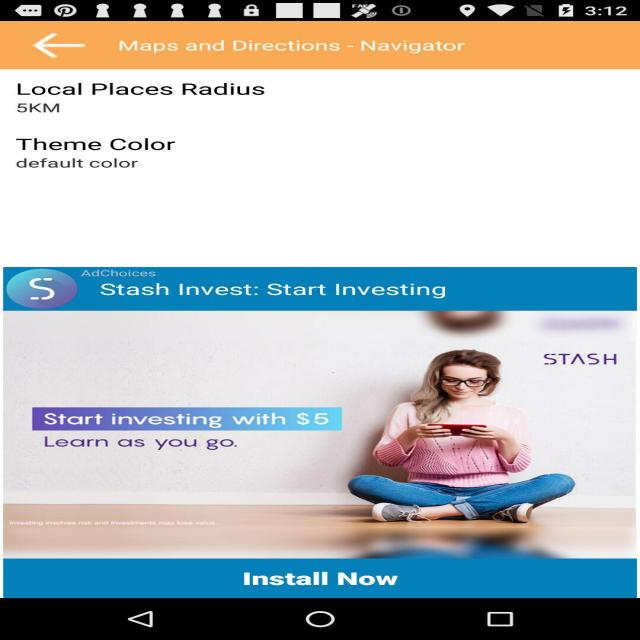button: (2, 561, 640, 600)
icon: (19, 30, 88, 70)
image: (6, 312, 630, 558), (6, 271, 78, 305)
text: (35, 396, 331, 454), (112, 34, 564, 58), (4, 83, 298, 116), (95, 281, 488, 304), (9, 135, 220, 177), (20, 510, 276, 536), (236, 570, 403, 598), (526, 350, 620, 371), (81, 263, 187, 280)
